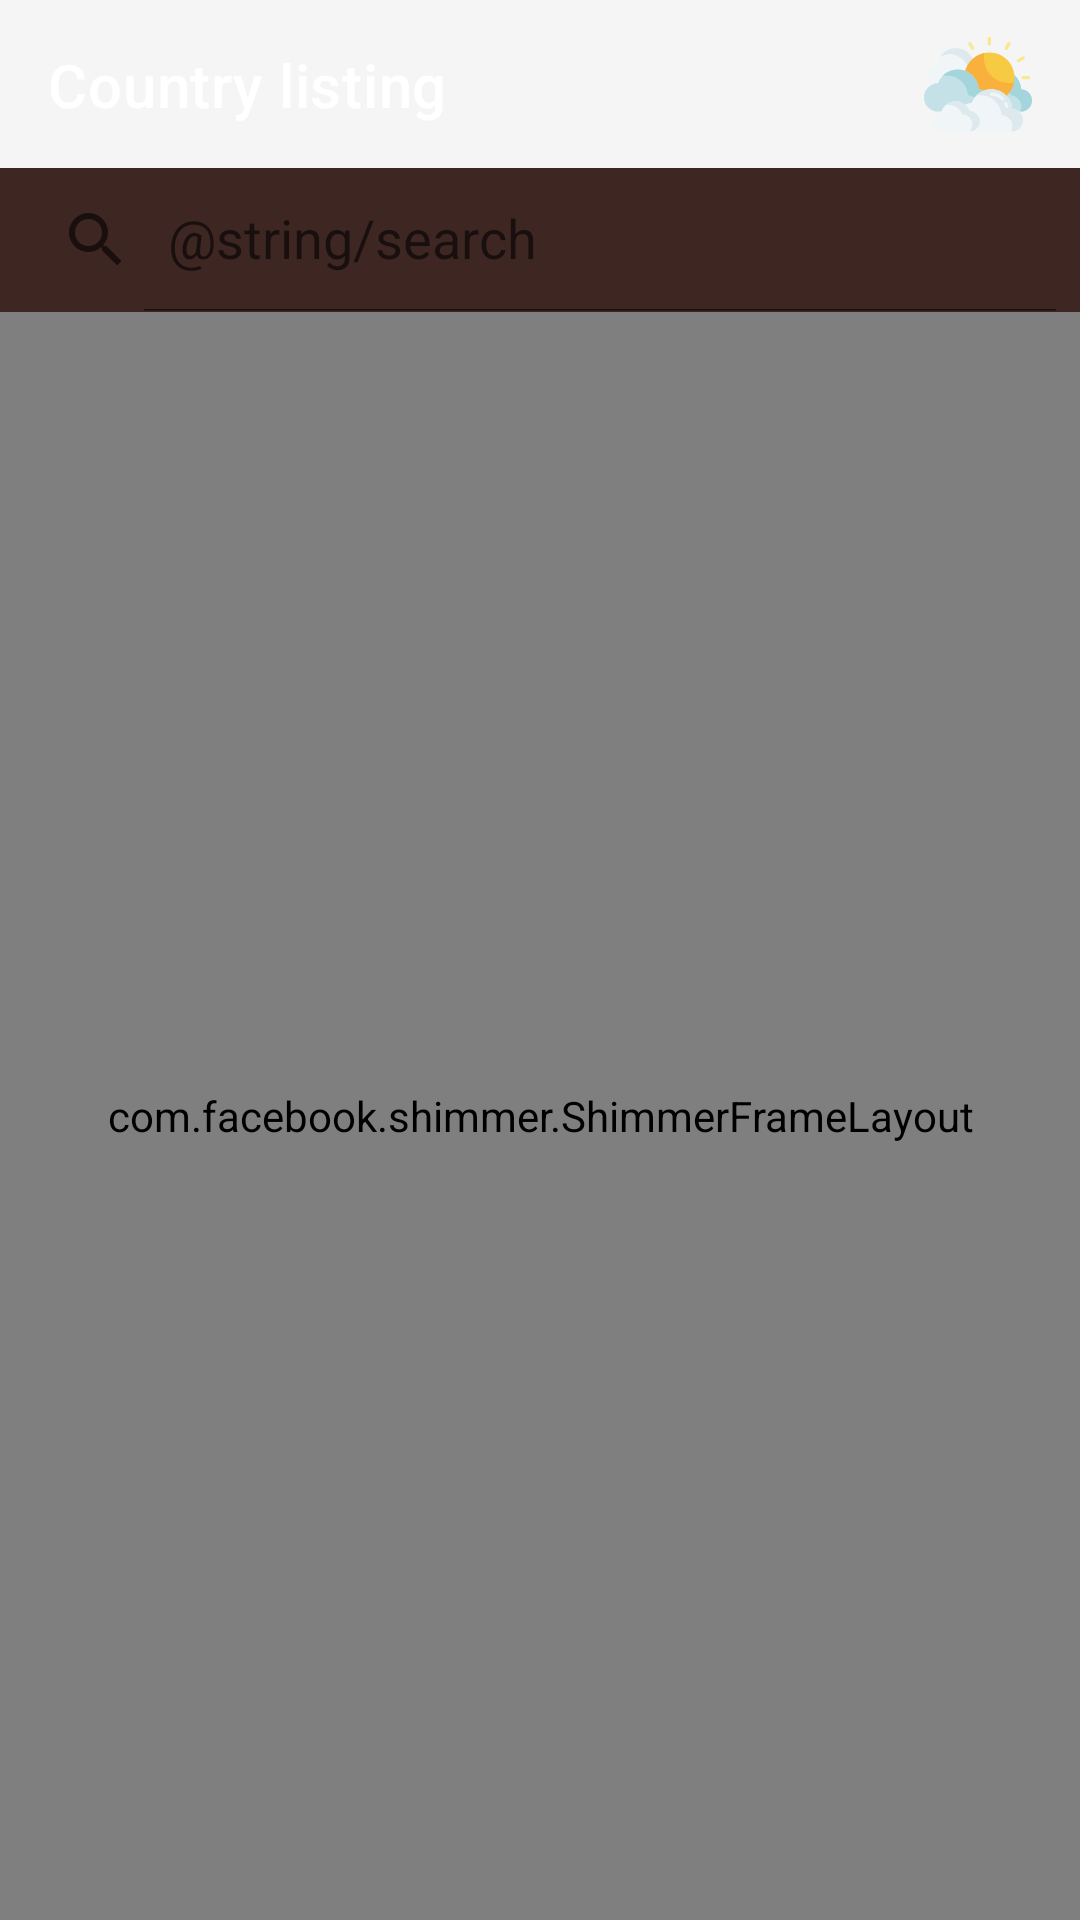

Where icons sit on this 1080*1920 app screen, as [x1, y1, x2, y2]:
weather: [924, 36, 1032, 112]
